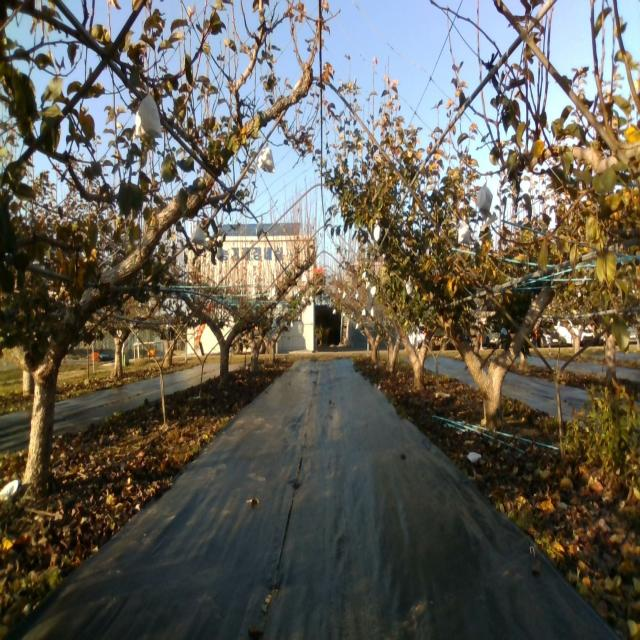pearbags: (135, 92, 163, 139), (256, 142, 274, 173), (477, 185, 492, 222), (190, 224, 207, 247), (457, 221, 470, 243)
